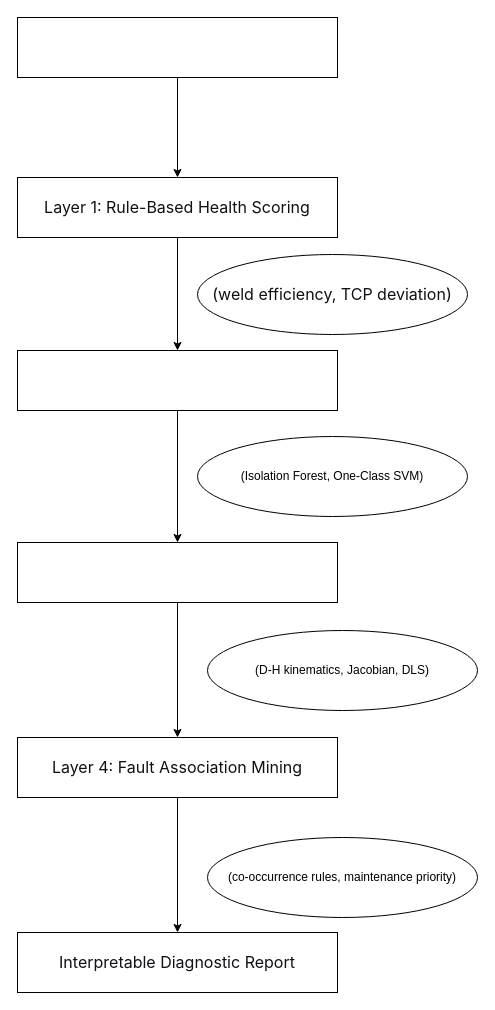
Some shapes in this 495 by 1010 pixel diagram are drawn without their labels. Each missing label, with the box of its shape:
Discrete Data Input (runtime counters, TCP pose, fault codes): (16, 16, 338, 78)
Layer 2: Machine Learning Anomaly Detection: (16, 350, 338, 410)
Layer 3: Joint-Level Anomaly Localization: (16, 542, 338, 602)
